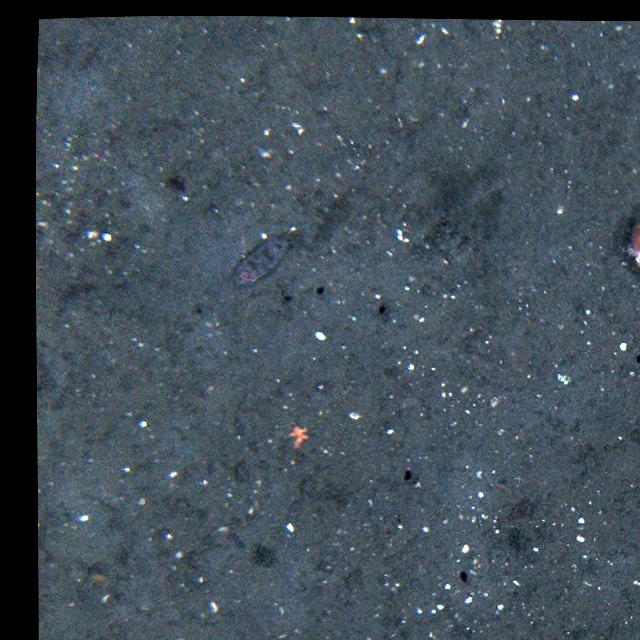flatfish: (224, 228, 299, 290)
